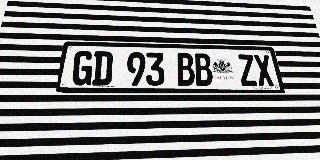3: (146, 52, 165, 86)
9: (127, 52, 145, 86)
B: (193, 53, 214, 86), (176, 53, 196, 86)
D: (92, 51, 113, 86)
G: (71, 51, 94, 85)
X: (253, 54, 275, 86)
Z: (236, 54, 258, 86)
